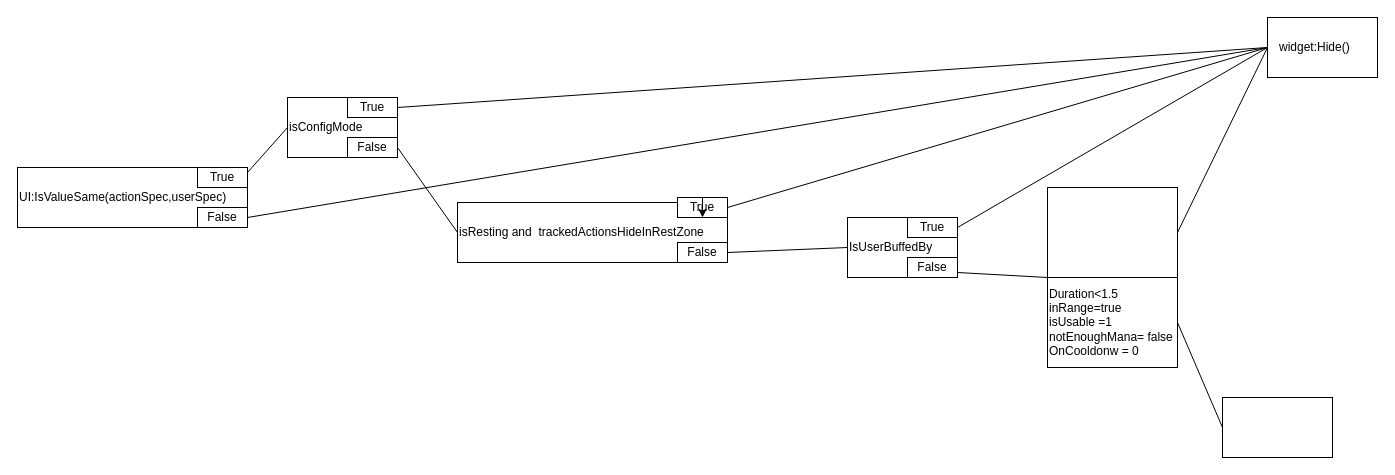
Some shapes in this 1395 by 475 pixel diagram are drawn without their labels. Each missing label, with the centre of its shape:
"OnCooldown >0 Duration > 1.5 notEnougMana = true inRange = false isUsable = nill" goes at [1112,232].
"widget:Show()" goes at [1277,427].
